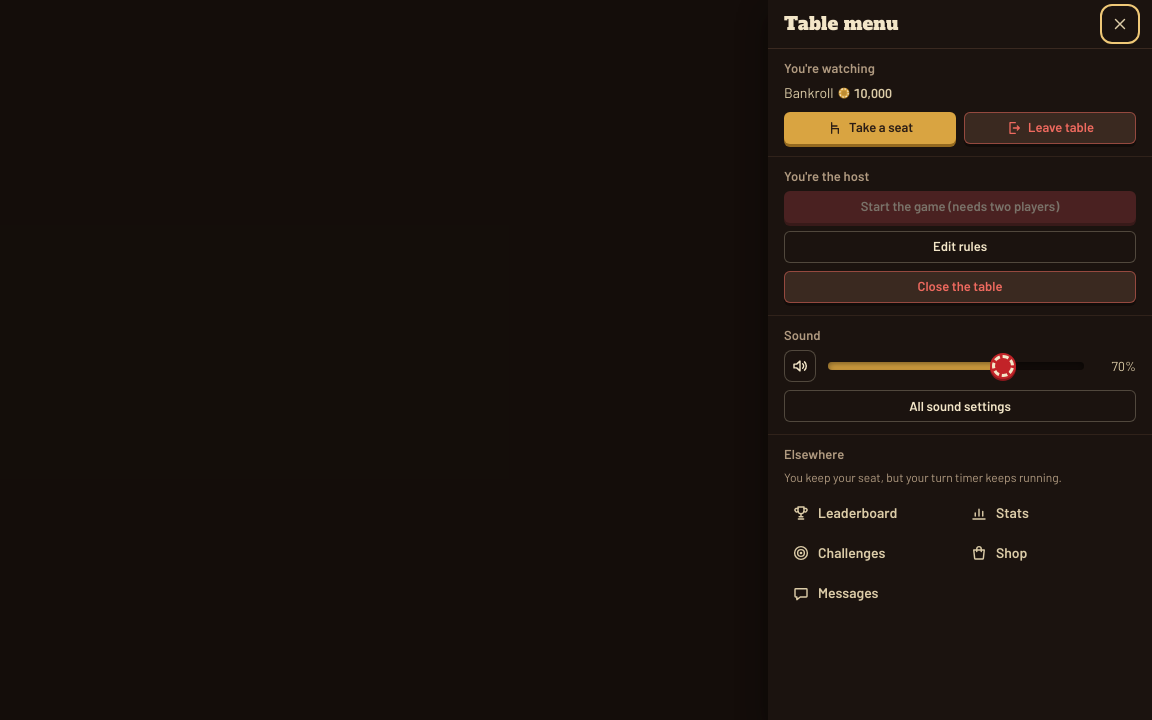
Test: sound controls around the app › table menu: quick mute and volume, and "All sound settings" opens the dialog
Expected: the slider named "Volume" is shown, [828,352,1084,380]
Click the button named "Mute all sound".
click(800, 366)  # box [784,350,816,382]
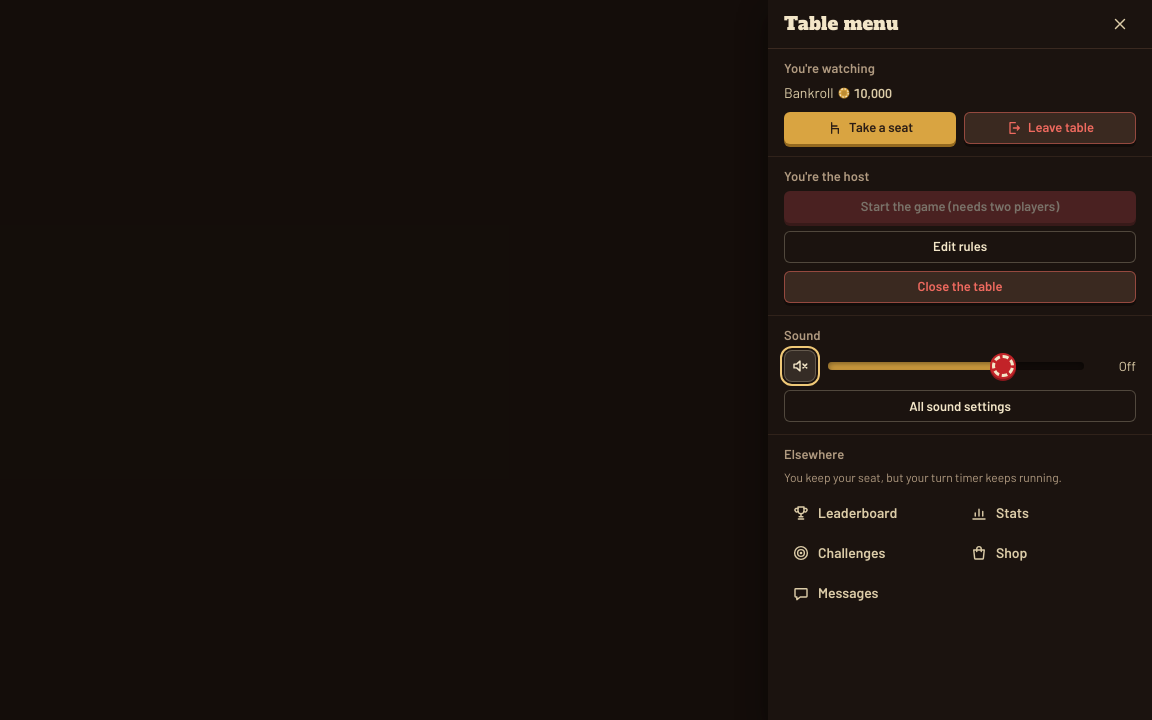
Click the button "All sound settings".
click(960, 406)  # box [784,390,1136,422]
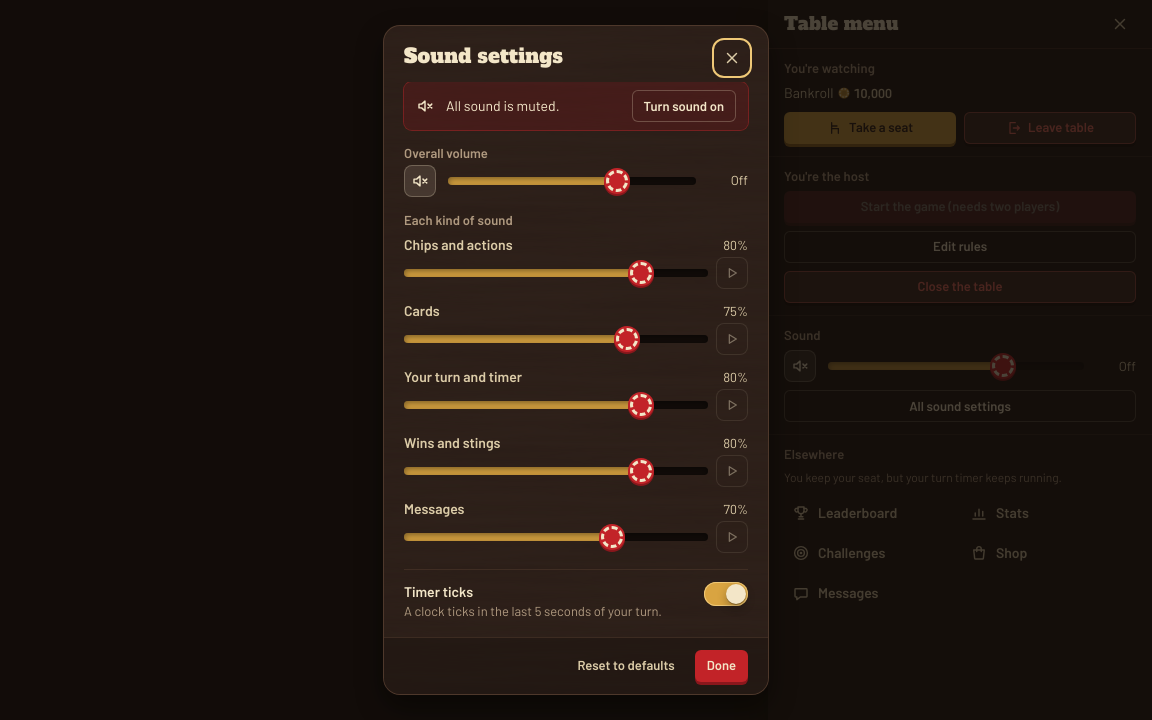
Result: the dialog "Sound settings" is shown at [384,26,768,694]
